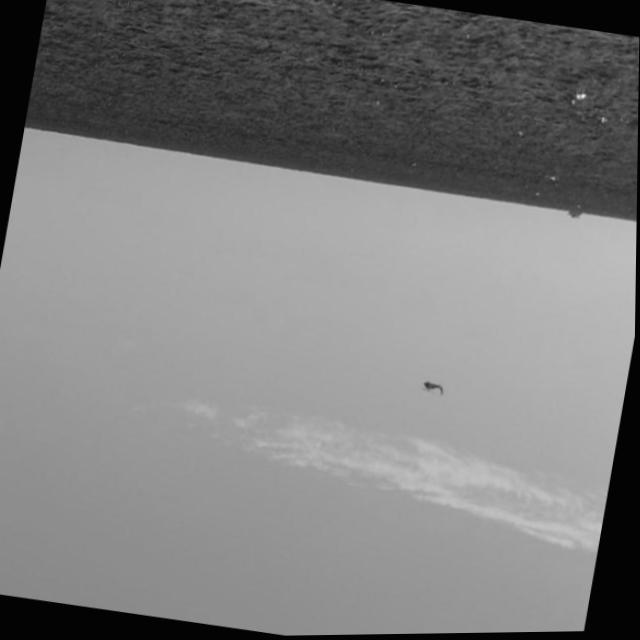helikopter: (386, 339, 481, 427)
